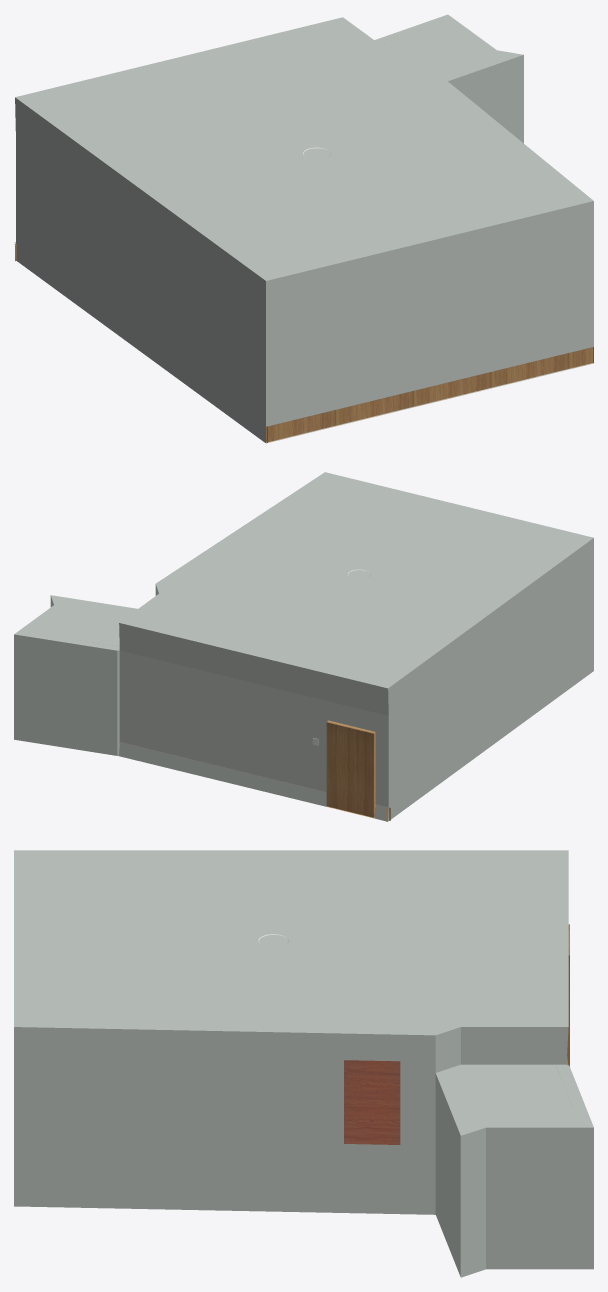
Rendered from room1.fbx.
The picture shows the model from 3 angles, top to bottom: view 1: azimuth 30°, elevation 25°; view 2: azimuth 150°, elevation 25°; view 3: azimuth 270°, elevation 25°; orthographic projection. The views are drawn at different scales.
Parts seen in each view (by area): view 1: Room, Sideboard; view 2: Room, RoomDoor; view 3: Room, Mirror.
Part boxes in pixels (x1=…): Room: x1=15, y1=14, x2=593, y2=443; Sideboard: x1=14, y1=242, x2=592, y2=442; Room: x1=14, y1=472, x2=593, y2=821; RoomDoor: x1=326, y1=721, x2=374, y2=817; Room: x1=14, y1=850, x2=593, y2=1277; Mirror: x1=344, y1=1060, x2=400, y2=1144.
Size of the model in its own units: 1183 by 403 by 1165.
